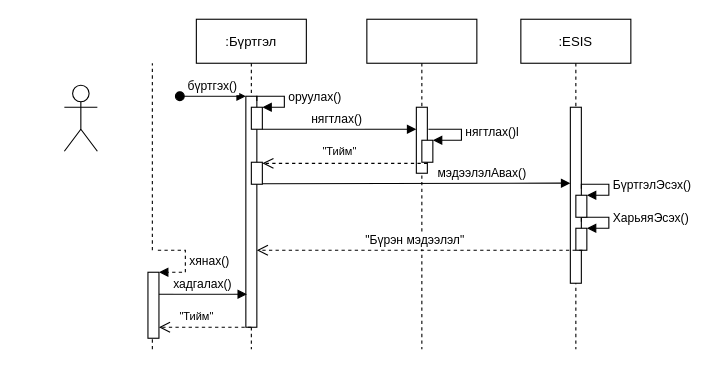
This 711x370 diagram has some shape labels left out. Here are the shapes that lost their labels. From the top down, the centre of each, then its label:
At (80,117): "Сургалтын менежер".
At (421,183): ":Сургуулийн захиргааТ".
